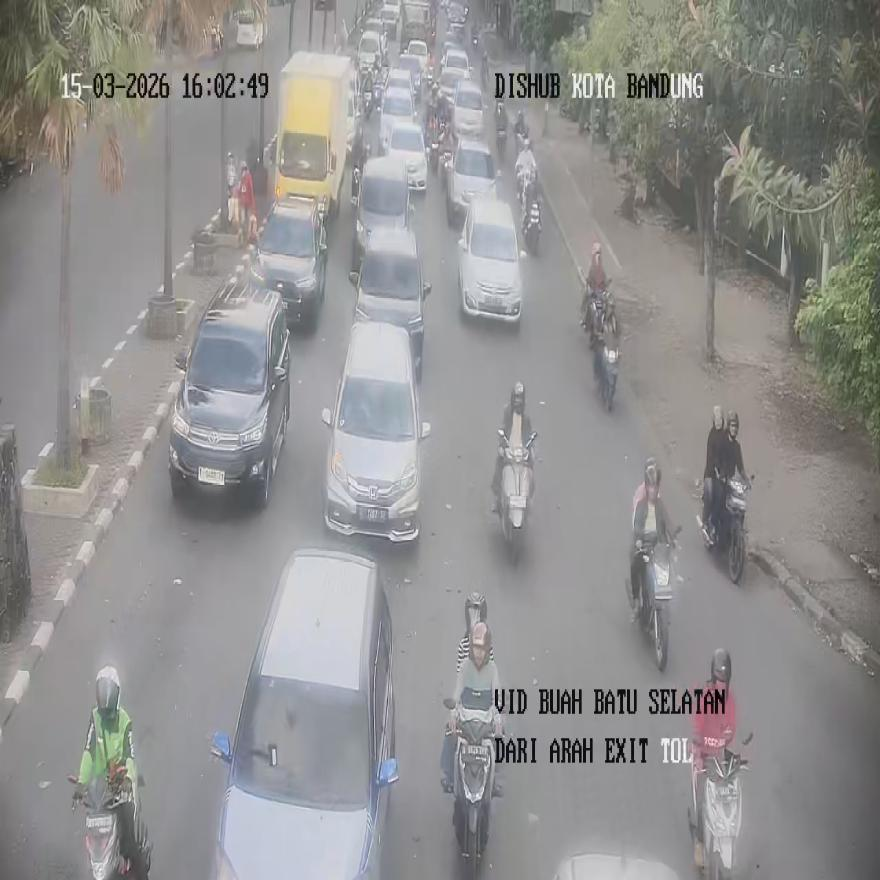Motor: (210, 548, 398, 878), (169, 287, 290, 507), (321, 322, 430, 542), (350, 224, 430, 380), (254, 193, 327, 325), (457, 192, 523, 321), (351, 155, 414, 270), (445, 134, 499, 224)
Truk: (446, 695, 500, 879), (688, 732, 752, 879), (69, 769, 151, 880), (627, 527, 680, 671), (701, 469, 751, 583), (495, 428, 536, 561), (595, 339, 621, 410), (520, 176, 542, 255), (495, 100, 506, 155)
